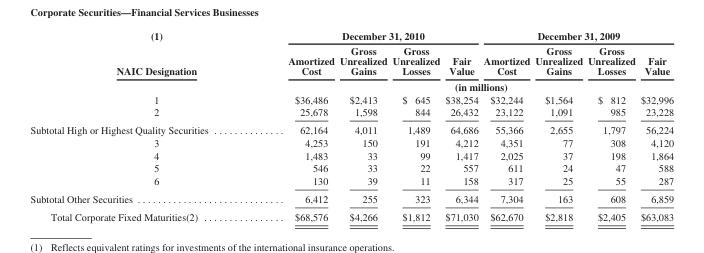table: (29, 29, 673, 222)
table column: (29, 29, 247, 222), (247, 29, 336, 222), (336, 29, 389, 222), (531, 29, 584, 222), (584, 29, 637, 222), (389, 29, 441, 222), (480, 29, 531, 222), (441, 29, 480, 222), (637, 29, 673, 222)
table column header: (29, 29, 673, 92)
table row: (29, 42, 673, 78), (29, 189, 673, 207), (29, 120, 673, 136), (29, 105, 673, 120), (29, 174, 673, 189), (29, 207, 673, 222), (29, 78, 673, 92), (29, 29, 673, 42), (29, 92, 673, 105), (29, 148, 673, 161), (29, 161, 673, 174), (29, 136, 673, 148)
table spanning cell: (29, 29, 247, 92), (247, 78, 673, 92), (247, 29, 480, 42), (480, 29, 673, 42)
